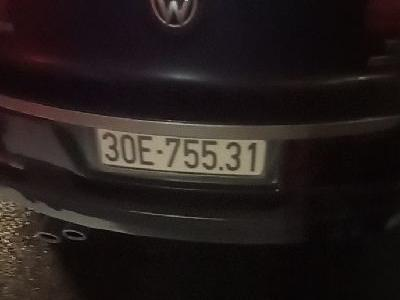car: (94, 129, 271, 183)
